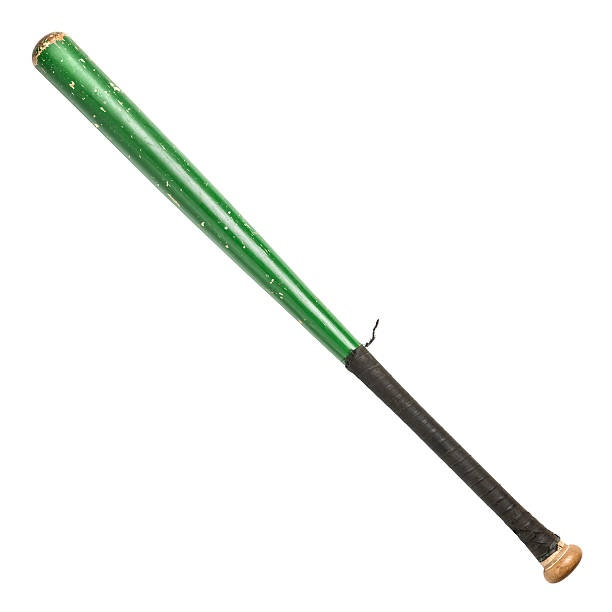bita: (37, 33, 584, 577)
